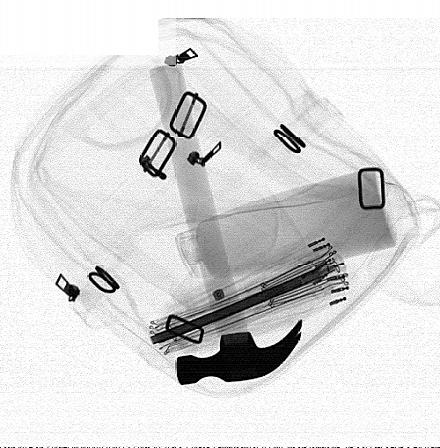Hammer: (148, 64, 302, 385)
